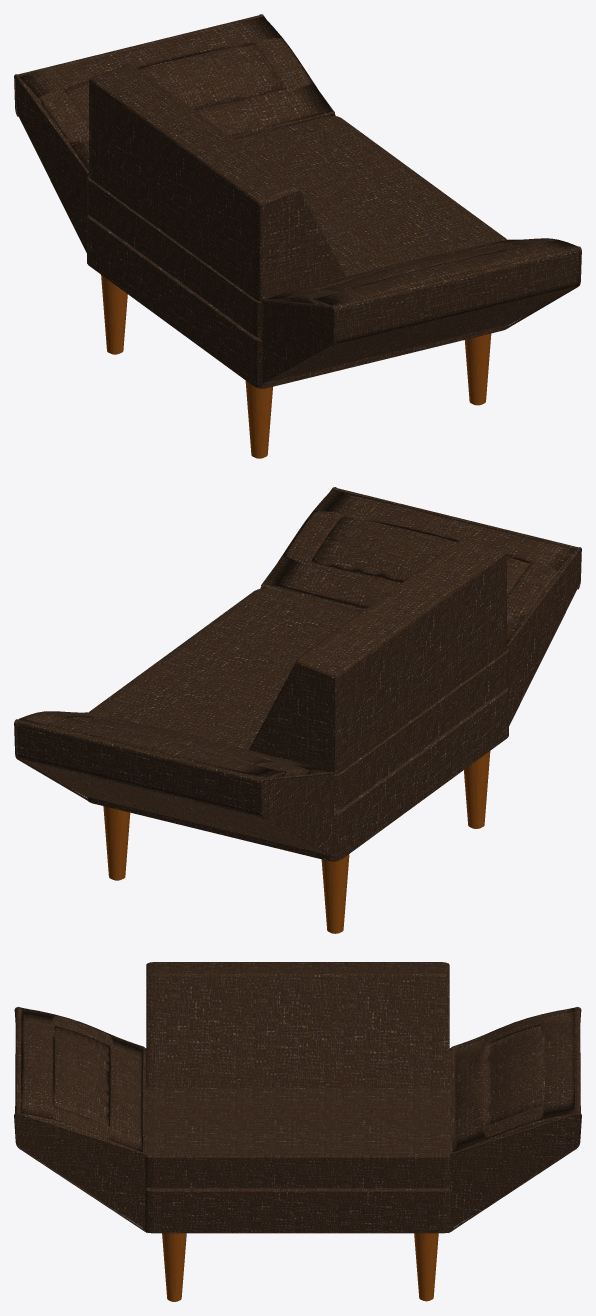
File: Deschair5git.glb
The picture shows the model from 3 angles, top to bottom: view 1: azimuth 30°, elevation 25°; view 2: azimuth 150°, elevation 25°; view 3: azimuth 270°, elevation 25°; orthographic projection. The views are drawn at different scales.
Parts seen in each view (by area): view 1: Cylinder.006, Cylinder.002; view 2: Cylinder.006, Cylinder.002; view 3: Cylinder.006, Cylinder.002.
Boxes of the visible parts, box(x1,y1,x2,y2) form: Cylinder.006: box(14, 14, 581, 388); Cylinder.002: box(101, 275, 491, 458); Cylinder.006: box(14, 487, 581, 861); Cylinder.002: box(103, 751, 490, 933); Cylinder.006: box(14, 962, 581, 1233); Cylinder.002: box(162, 1233, 438, 1301).
Size of the model in its own units: 7.99 by 8.28 by 17.59.
Materials: 2 (2 with a texture image).
